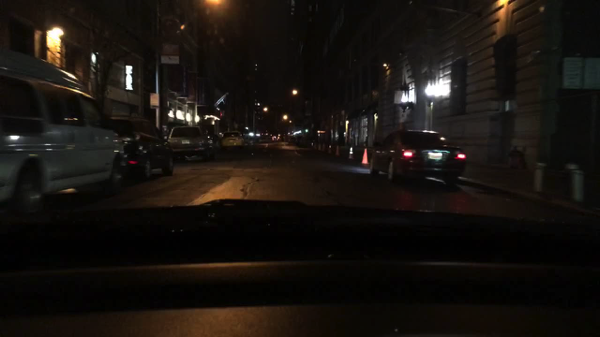car: (0, 45, 127, 215), (368, 129, 465, 184), (104, 115, 174, 179), (167, 125, 215, 162), (220, 132, 244, 152), (299, 136, 314, 148), (261, 131, 268, 138), (289, 136, 297, 142), (272, 135, 279, 140)
